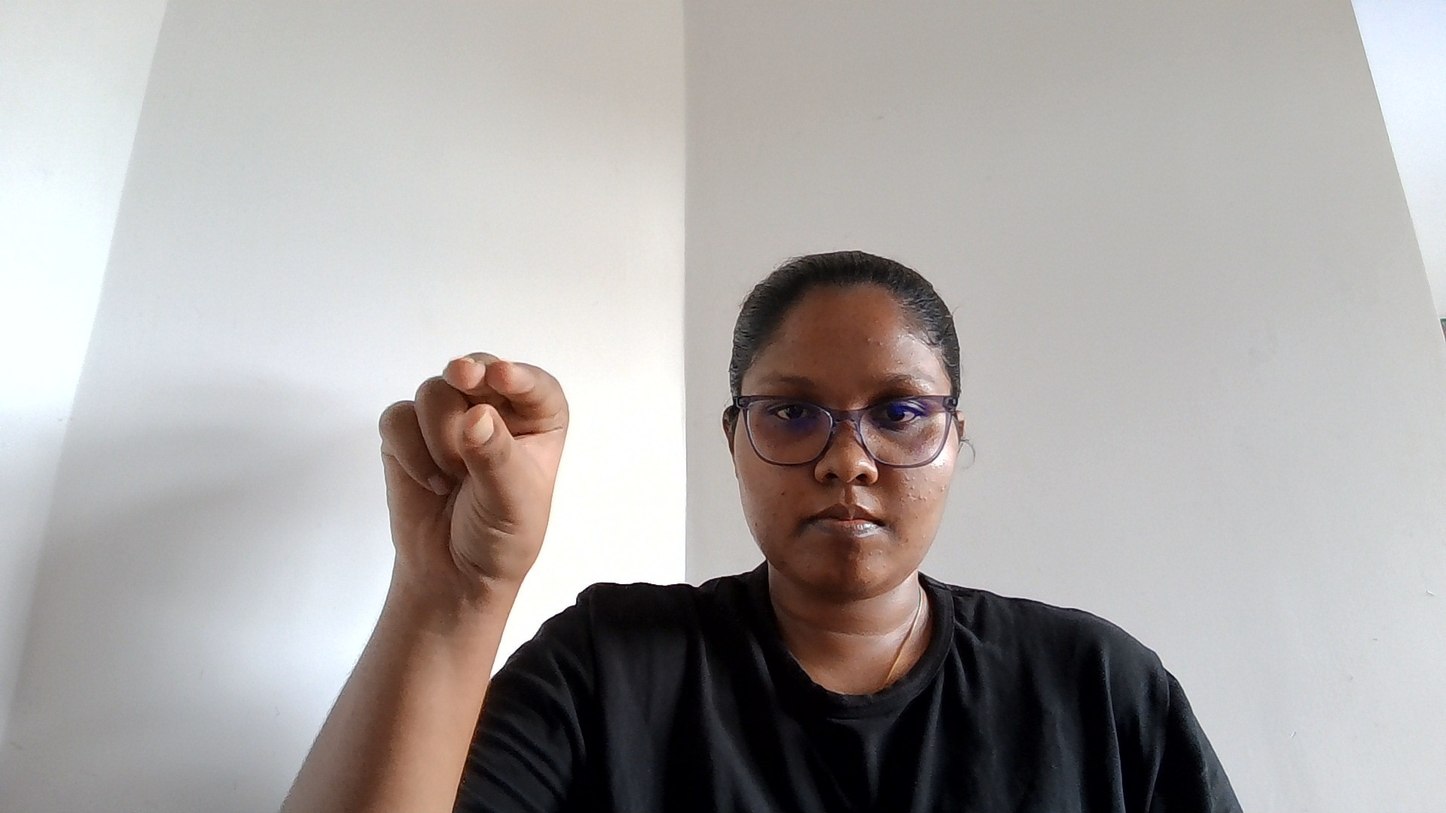No: (277, 268, 656, 681)
